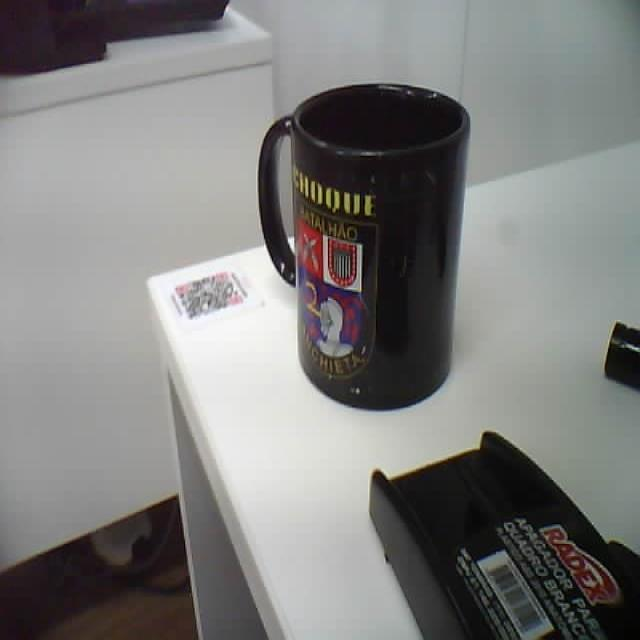caneca: (259, 85, 469, 409)
